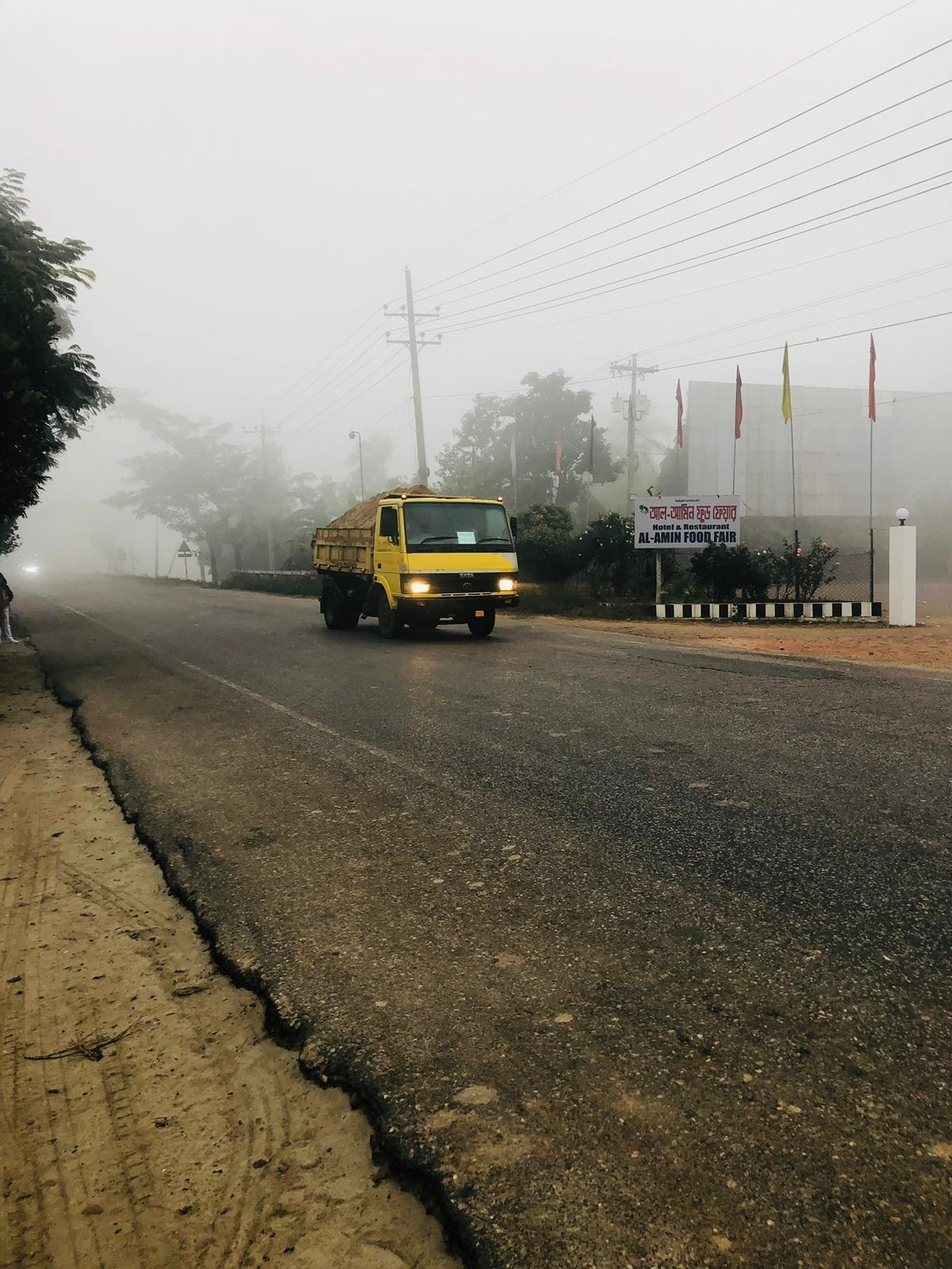Truck: (300, 476, 526, 653)
